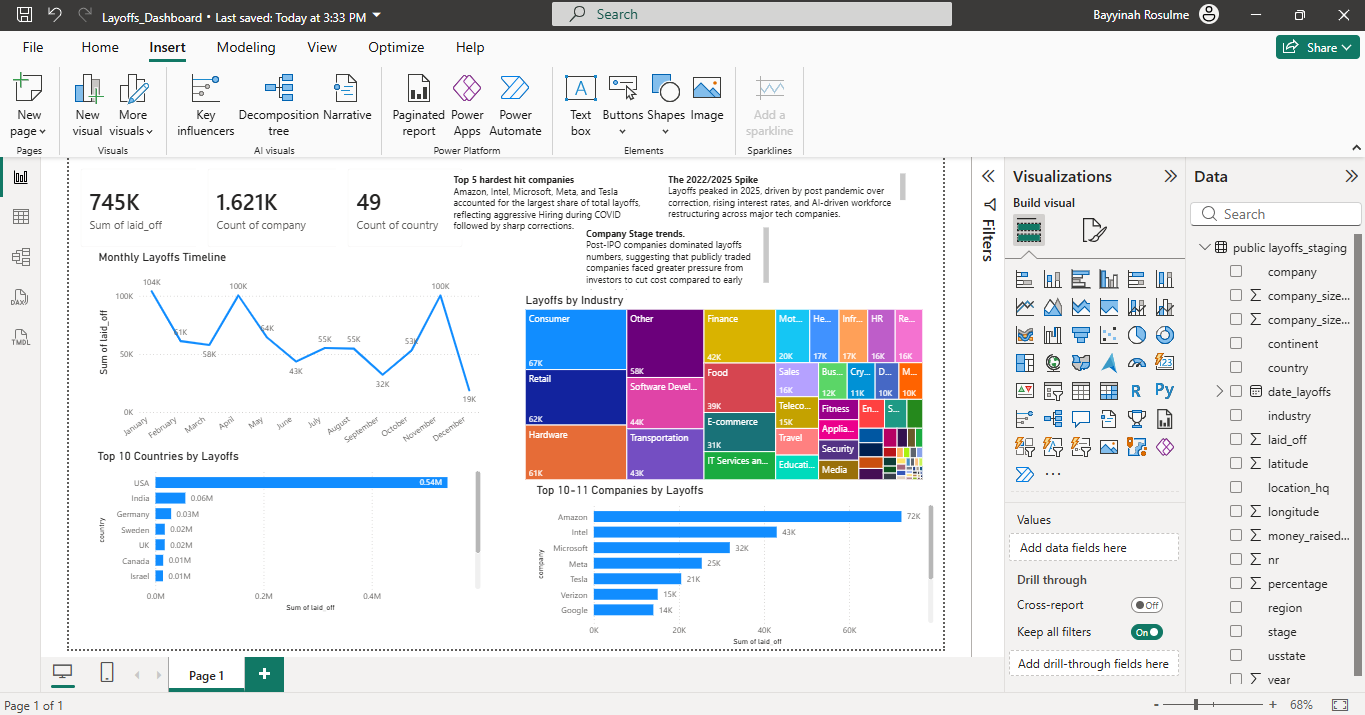

Layout of this report page (visuals, bound fields, positions):
{"tool":"powerbi","page":{"name":"Page 1","canvas":[1280,720],"ordinal":0},"visuals":[{"type":"cardVisual","fields":{"Data":["Sum(public layoffs_staging.laid_off)"]},"box":[0,0,333.4,149.1],"z":0},{"type":"cardVisual","fields":{"Data":["Count(public layoffs_staging.company)"]},"box":[186,0,331.7,149.1],"z":1000},{"type":"cardVisual","fields":{"Data":["Count(public layoffs_staging.country)"]},"box":[390.4,0,202.7,149.1],"z":2000},{"type":"lineChart","title":"Monthly Layoffs Timeline","fields":{"Y":["Sum(public layoffs_staging.laid_off)"],"Category":["public layoffs_staging.date_layoffs.Variation.Date Hierarchy.Month"]},"box":[38.5,135.7,569.6,318.3],"z":3000},{"type":"treemap","title":"Layoffs by Industry","fields":{"Group":["public layoffs_staging.industry"],"Values":["Sum(public layoffs_staging.laid_off)"]},"box":[662.9,199,591.2,278],"z":4000},{"type":"barChart","title":"Top 10 Countries by Layoffs","fields":{"Category":["public layoffs_staging.country"],"Y":["Sum(public layoffs_staging.laid_off)"]},"box":[36.6,427.3,570.7,242.9],"z":4001},{"type":"barChart","title":"Top 10-11 Companies by Layoffs","fields":{"Category":["public layoffs_staging.company"],"Y":["Sum(public layoffs_staging.laid_off)"]},"box":[679,477.1,591.2,242.9],"z":4002},{"type":"textbox","box":[872.2,19,357.1,77.6],"z":4005},{"type":"textbox","box":[557.6,19,291.2,102.4],"z":4006},{"type":"textbox","box":[752.2,98,276.6,101],"z":4007}]}

Visuals, with their boxes on the page's 1280x720 design canvas (x1, y1, x2, y2). These are canvas units, not pixel positions in the 1365x715 screenshot, which may show the page scaled, cropped or inside an application window:
cardVisual - Sum(public layoffs_staging.laid_off): [0,0,333,149]
cardVisual - Count(public layoffs_staging.company): [186,0,518,149]
cardVisual - Count(public layoffs_staging.country): [390,0,593,149]
"Monthly Layoffs Timeline" lineChart: [38,136,608,454]
"Layoffs by Industry" treemap: [663,199,1254,477]
"Top 10 Countries by Layoffs" barChart: [37,427,607,670]
"Top 10-11 Companies by Layoffs" barChart: [679,477,1270,720]
textbox: [872,19,1229,97]
textbox: [558,19,849,121]
textbox: [752,98,1029,199]
